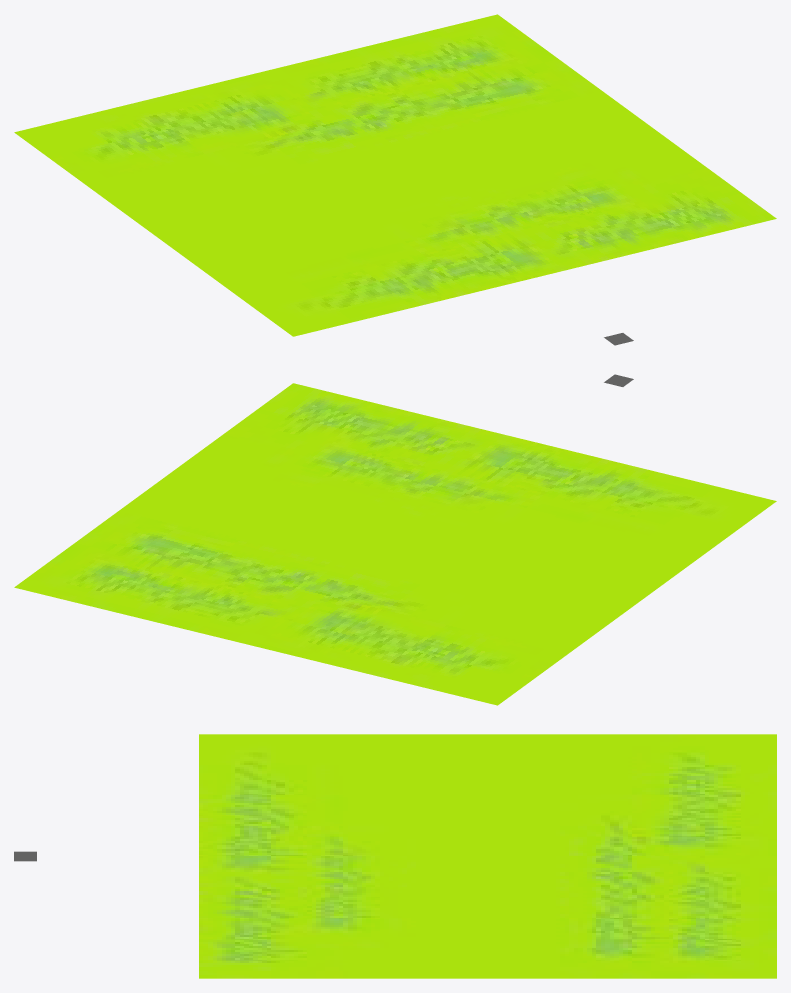
Rendered from TILESET.glb.
3 views of the same model, one above another, from view 1: azimuth 30°, elevation 25°; view 2: azimuth 150°, elevation 25°; view 3: azimuth 270°, elevation 25° (orthographic). The views are drawn at different scales.
Parts seen in each view (by area): view 1: MediumPlane.col; view 2: MediumPlane.col; view 3: MediumPlane.col.
Boxes of the visible parts, x1,y1,x2,y2 form: MediumPlane.col: [14, 14, 776, 336]; MediumPlane.col: [14, 383, 776, 705]; MediumPlane.col: [199, 734, 776, 978].
Size of what is drawn, in the model's own units: 50 by 0 by 66.
Materials: 2 (1 with a texture image).
